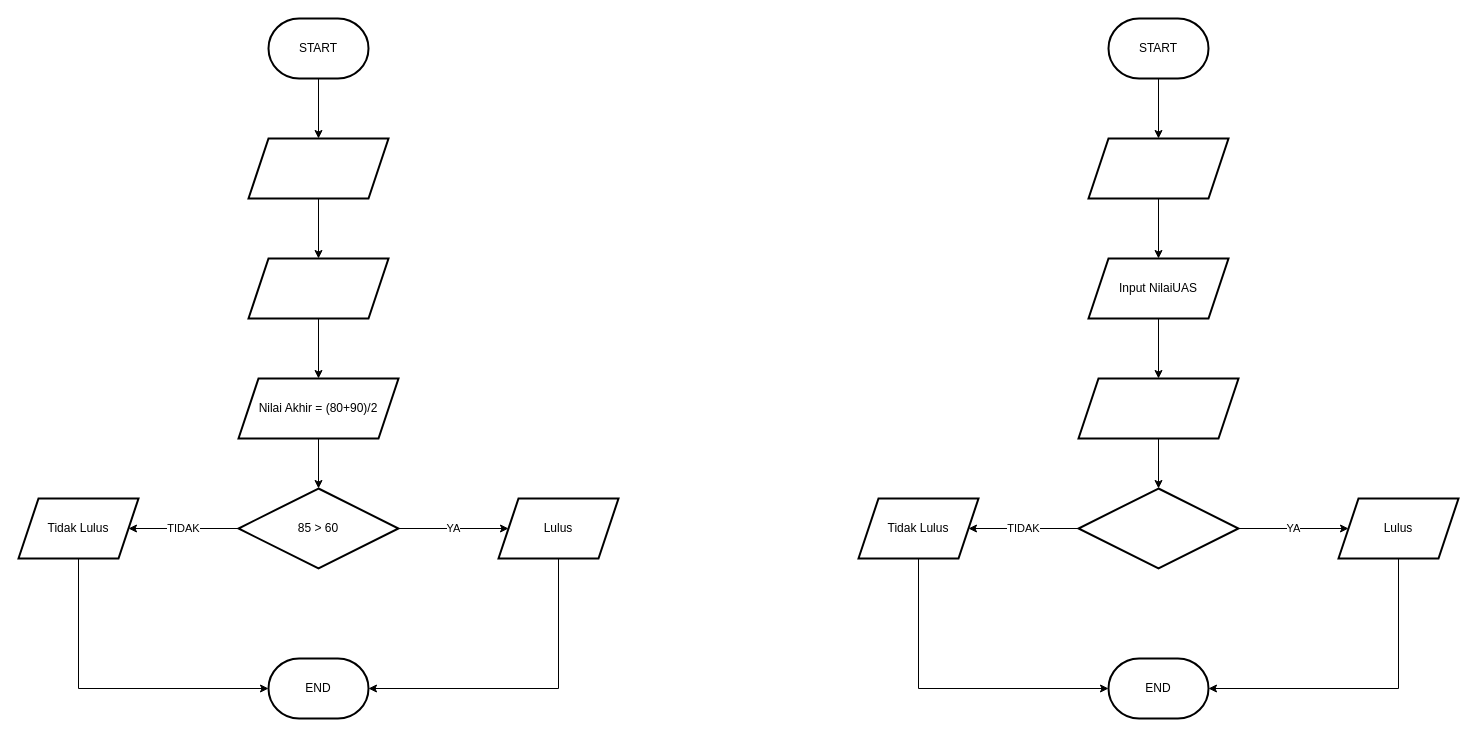
Image size: 1476x736. Some labels were removed from this diagram. The centre of each missing label's shape, as x and y in pixels:
"Input NilaiUAS = 90" belongs at point (318, 288).
"Input NilaiUTS" belongs at point (1158, 168).
"Input NilaiUTS = 80" belongs at point (318, 168).
"Nilai Akhir = (NilaiUTS+NilaiUAS)/2" belongs at point (1158, 408).
"Nilai Akhir > 60" belongs at point (1158, 528).
